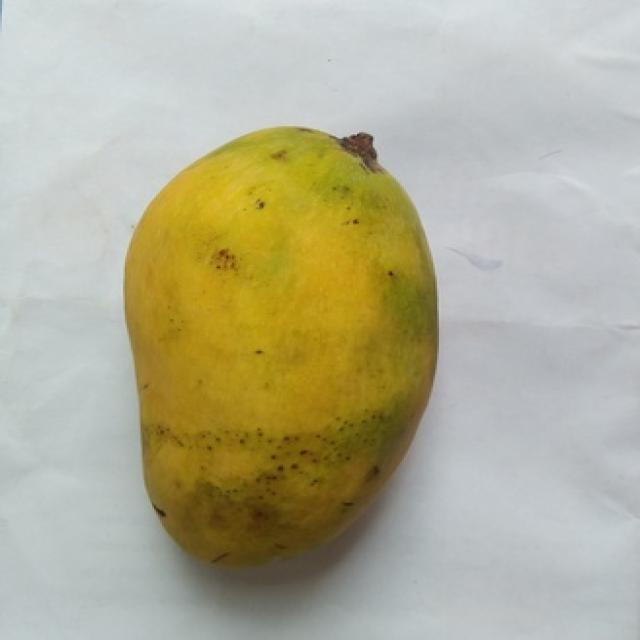Mango: (125, 128, 435, 563)
